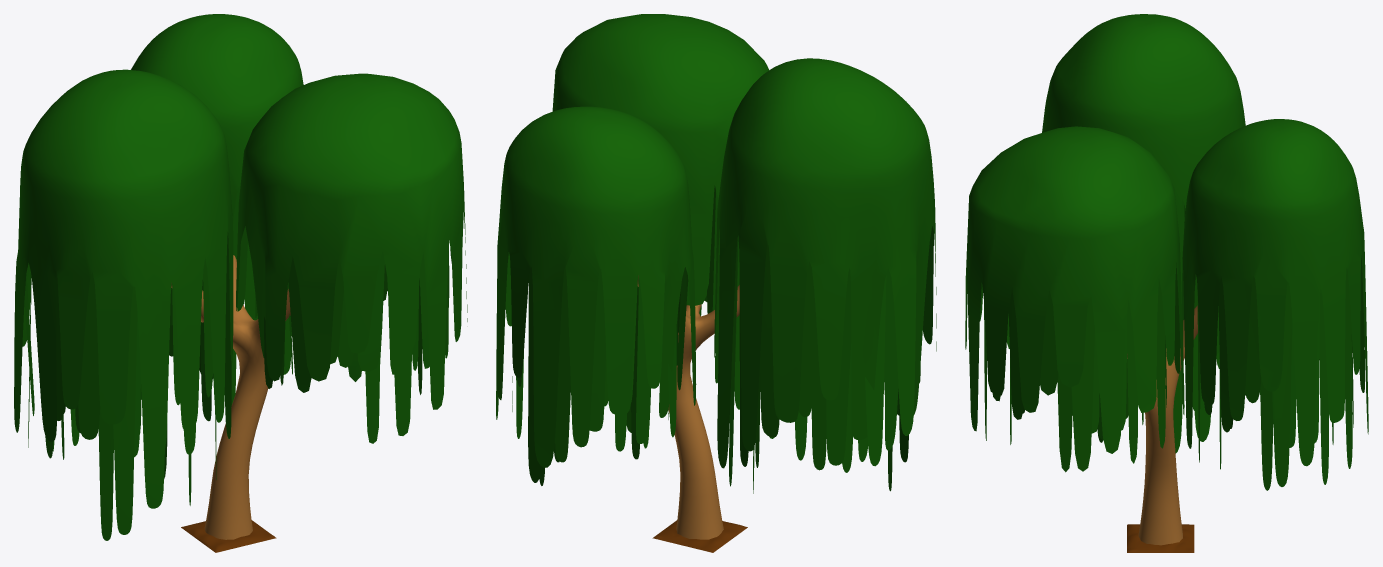
File: weeping-willow.glb
The picture shows the model from 3 angles, left to right: view 1: azimuth 30°, elevation 25°; view 2: azimuth 150°, elevation 25°; view 3: azimuth 270°, elevation 25°; orthographic projection. The views are drawn at different scales.
Parts seen in each view (by area): view 1: 5_nft_summer; view 2: 5_nft_summer; view 3: 5_nft_summer.
Boxes of the visible parts, <box> form: 5_nft_summer: <box>14,14,467,552</box>; 5_nft_summer: <box>496,14,936,552</box>; 5_nft_summer: <box>965,14,1368,552</box>.
Size of the model in its own units: 9.03 by 10.68 by 8.4.
